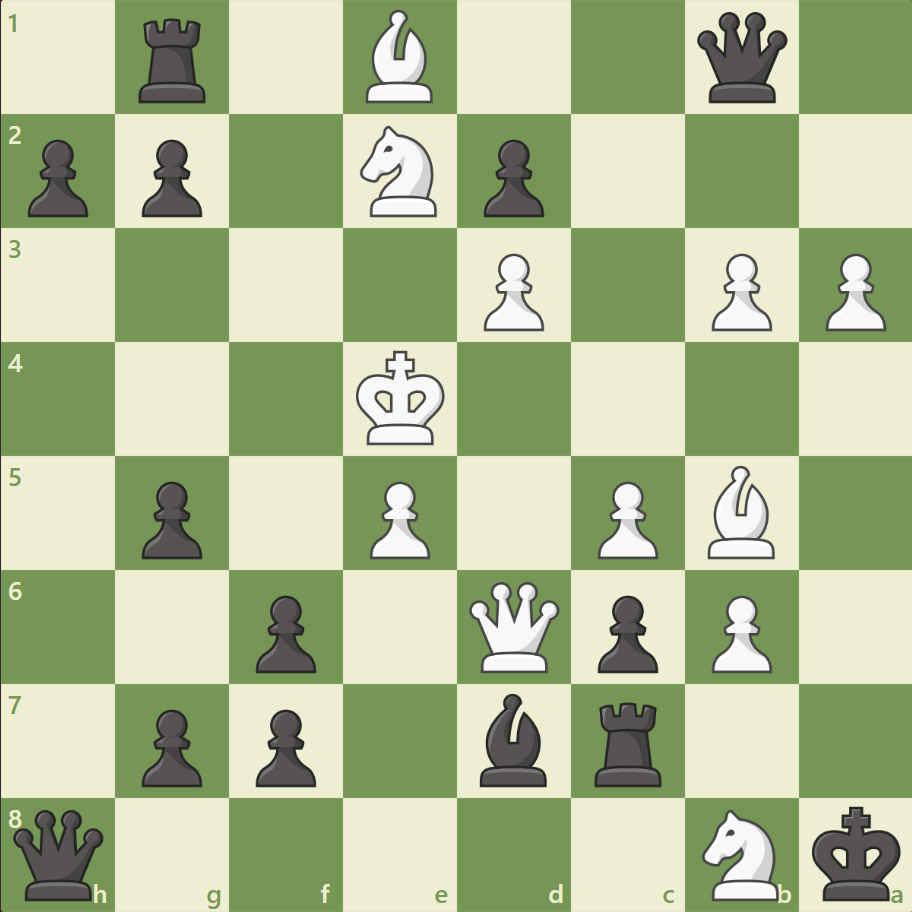B: (698, 460, 782, 563), (358, 6, 442, 109)
K: (351, 344, 451, 452)
N: (351, 121, 449, 223), (692, 802, 789, 904)
P: (701, 586, 776, 677), (701, 246, 776, 337), (474, 246, 549, 337), (588, 473, 662, 564), (361, 473, 435, 564), (815, 246, 889, 337)
Q: (464, 576, 563, 676)
b: (471, 687, 555, 790)
k: (806, 798, 906, 906)
p: (247, 700, 322, 791), (133, 700, 208, 791), (247, 586, 322, 677), (133, 473, 208, 564), (474, 132, 549, 223), (133, 132, 208, 223), (20, 132, 95, 223), (588, 586, 662, 677)
q: (10, 804, 109, 903), (691, 9, 790, 108)
r: (587, 693, 670, 790), (133, 12, 215, 109)
